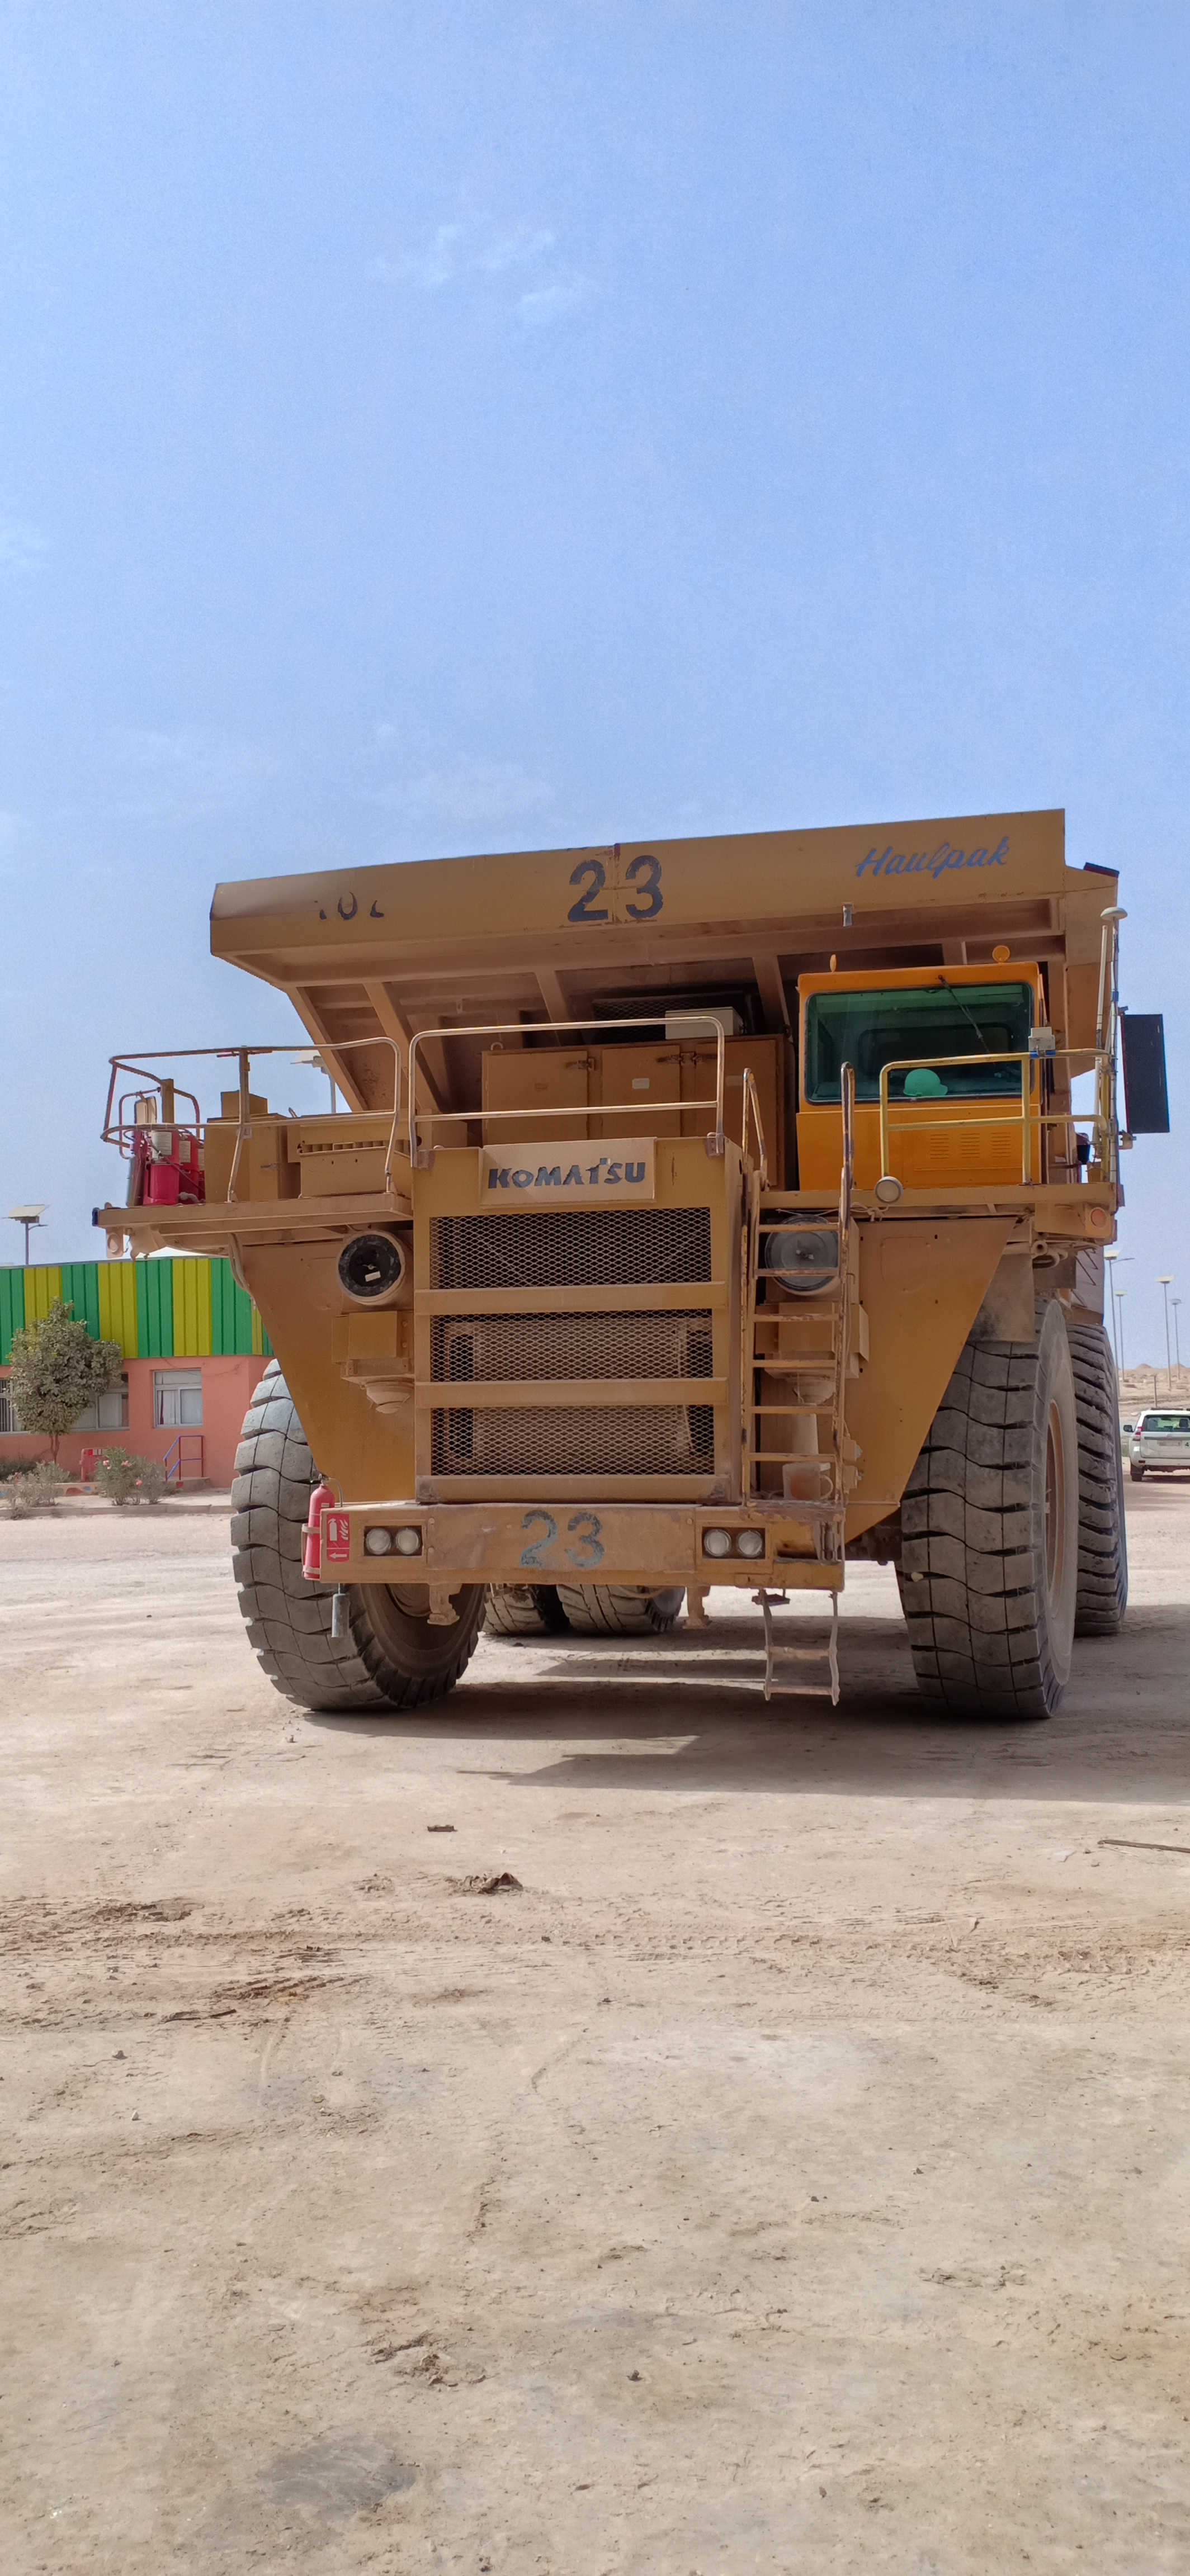camion: (141, 784, 1190, 1768)
